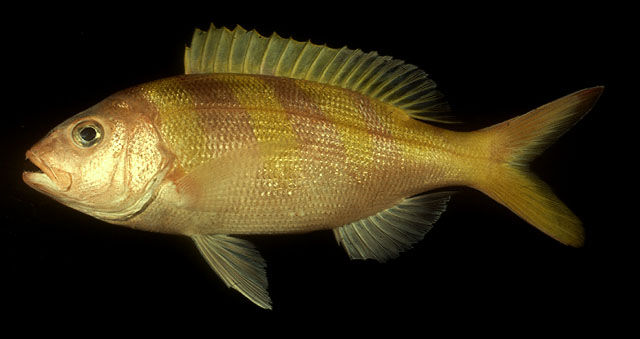fish: (21, 22, 605, 311)
